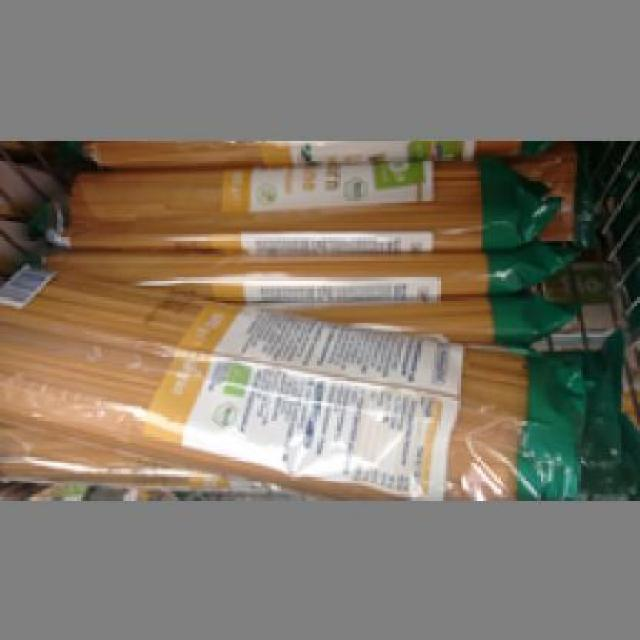Pasta: (0, 260, 617, 494), (46, 166, 554, 243)
